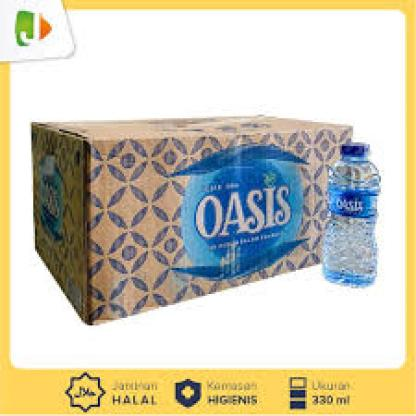Glass Bottle: (320, 141, 382, 290)
